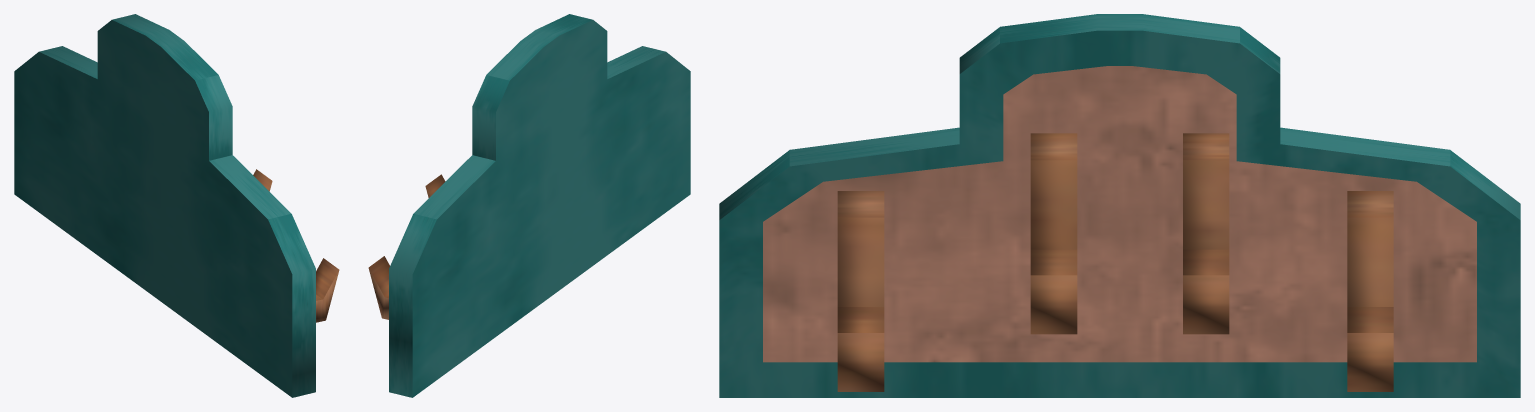
Rendered from Hanger_01.fbx.
3 renders of one model, left to right at view 1: azimuth 30°, elevation 25°; view 2: azimuth 150°, elevation 25°; view 3: azimuth 270°, elevation 25°, orthographic. The views are drawn at different scales.
Parts seen in each view (by area): view 1: Hanger_01; view 2: Hanger_01; view 3: Hanger_01.
Part boxes in pixels (bbox=[...]): Hanger_01: bbox=[14, 14, 339, 397]; Hanger_01: bbox=[368, 14, 690, 397]; Hanger_01: bbox=[719, 14, 1520, 397].
Size of the model in its own units: 75.25 by 208 by 411.
